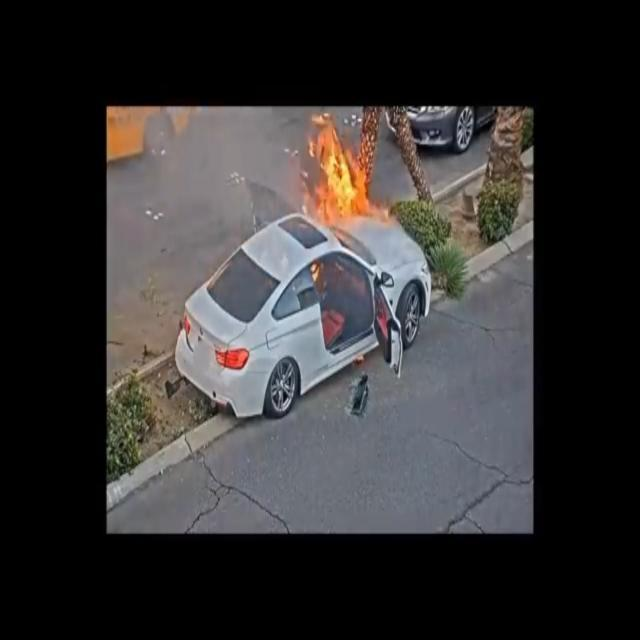fire: (299, 112, 388, 224)
